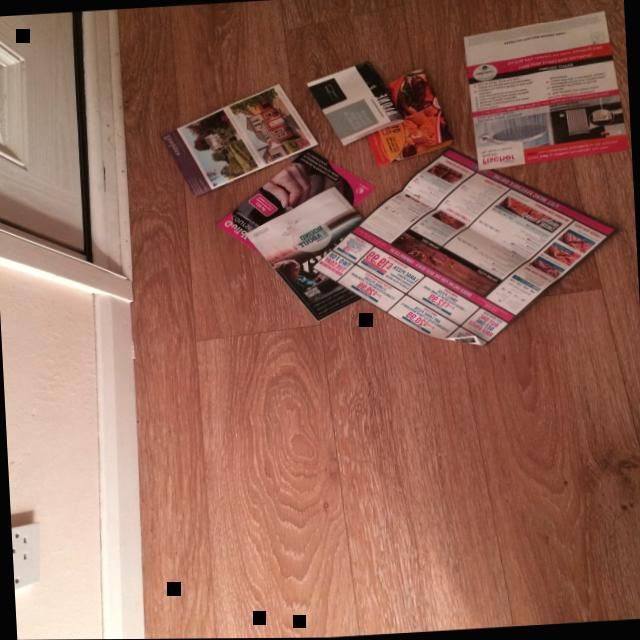Magazine paper: (311, 147, 619, 347), (463, 12, 630, 171), (159, 84, 317, 197), (215, 150, 375, 259), (244, 187, 364, 322), (365, 70, 453, 167), (306, 62, 403, 147)
